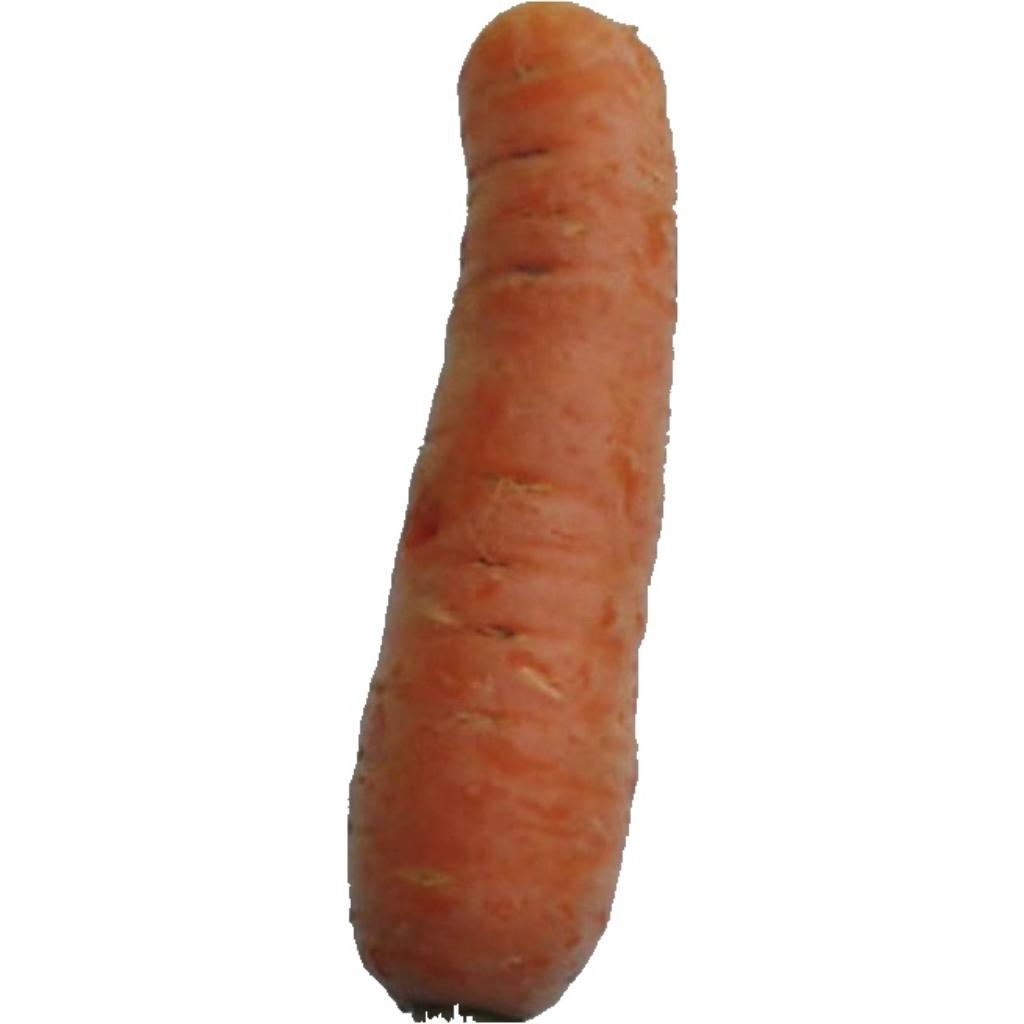carrot: (349, 4, 675, 1020)
